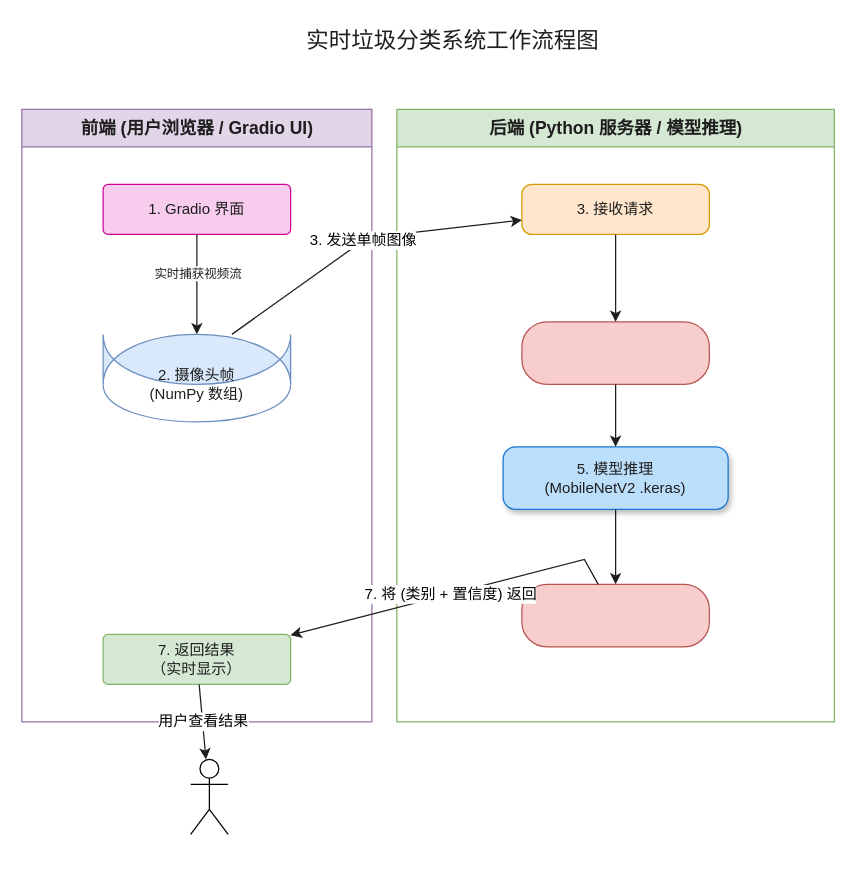
The diagram is 856 pixels wide and 881 high, and some of its shapes have lost their labels. Here are the shapes that lost their labels. From the top down, the centre of each, then its label:
At point 615,352: "4. 预处理模块 (尺寸调整, 归一化)".
At point 615,615: "6. 后处理模块 (解析概率, 确定类别)".
At point 208,796: "用户".
